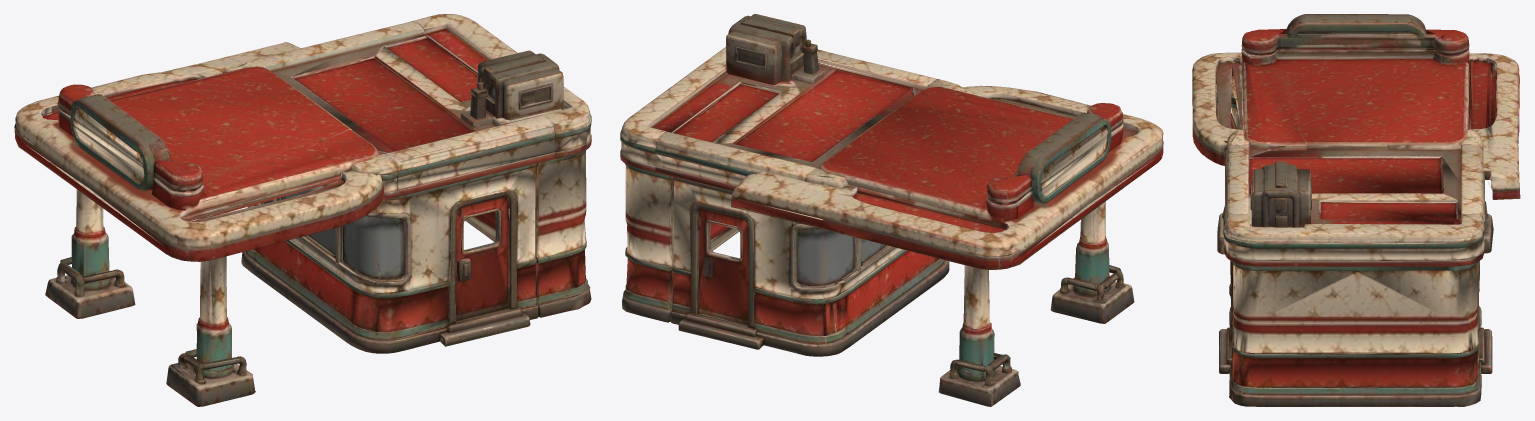
File: town_gas_station.glb
The picture shows the model from 3 angles, left to right: view 1: azimuth 30°, elevation 25°; view 2: azimuth 150°, elevation 25°; view 3: azimuth 270°, elevation 25°; orthographic projection. The views are drawn at different scales.
Bounding box in the file's own units: 0.9492 × 0.4814 × 0.6831.
Materials: 1 (1 with a texture image).
